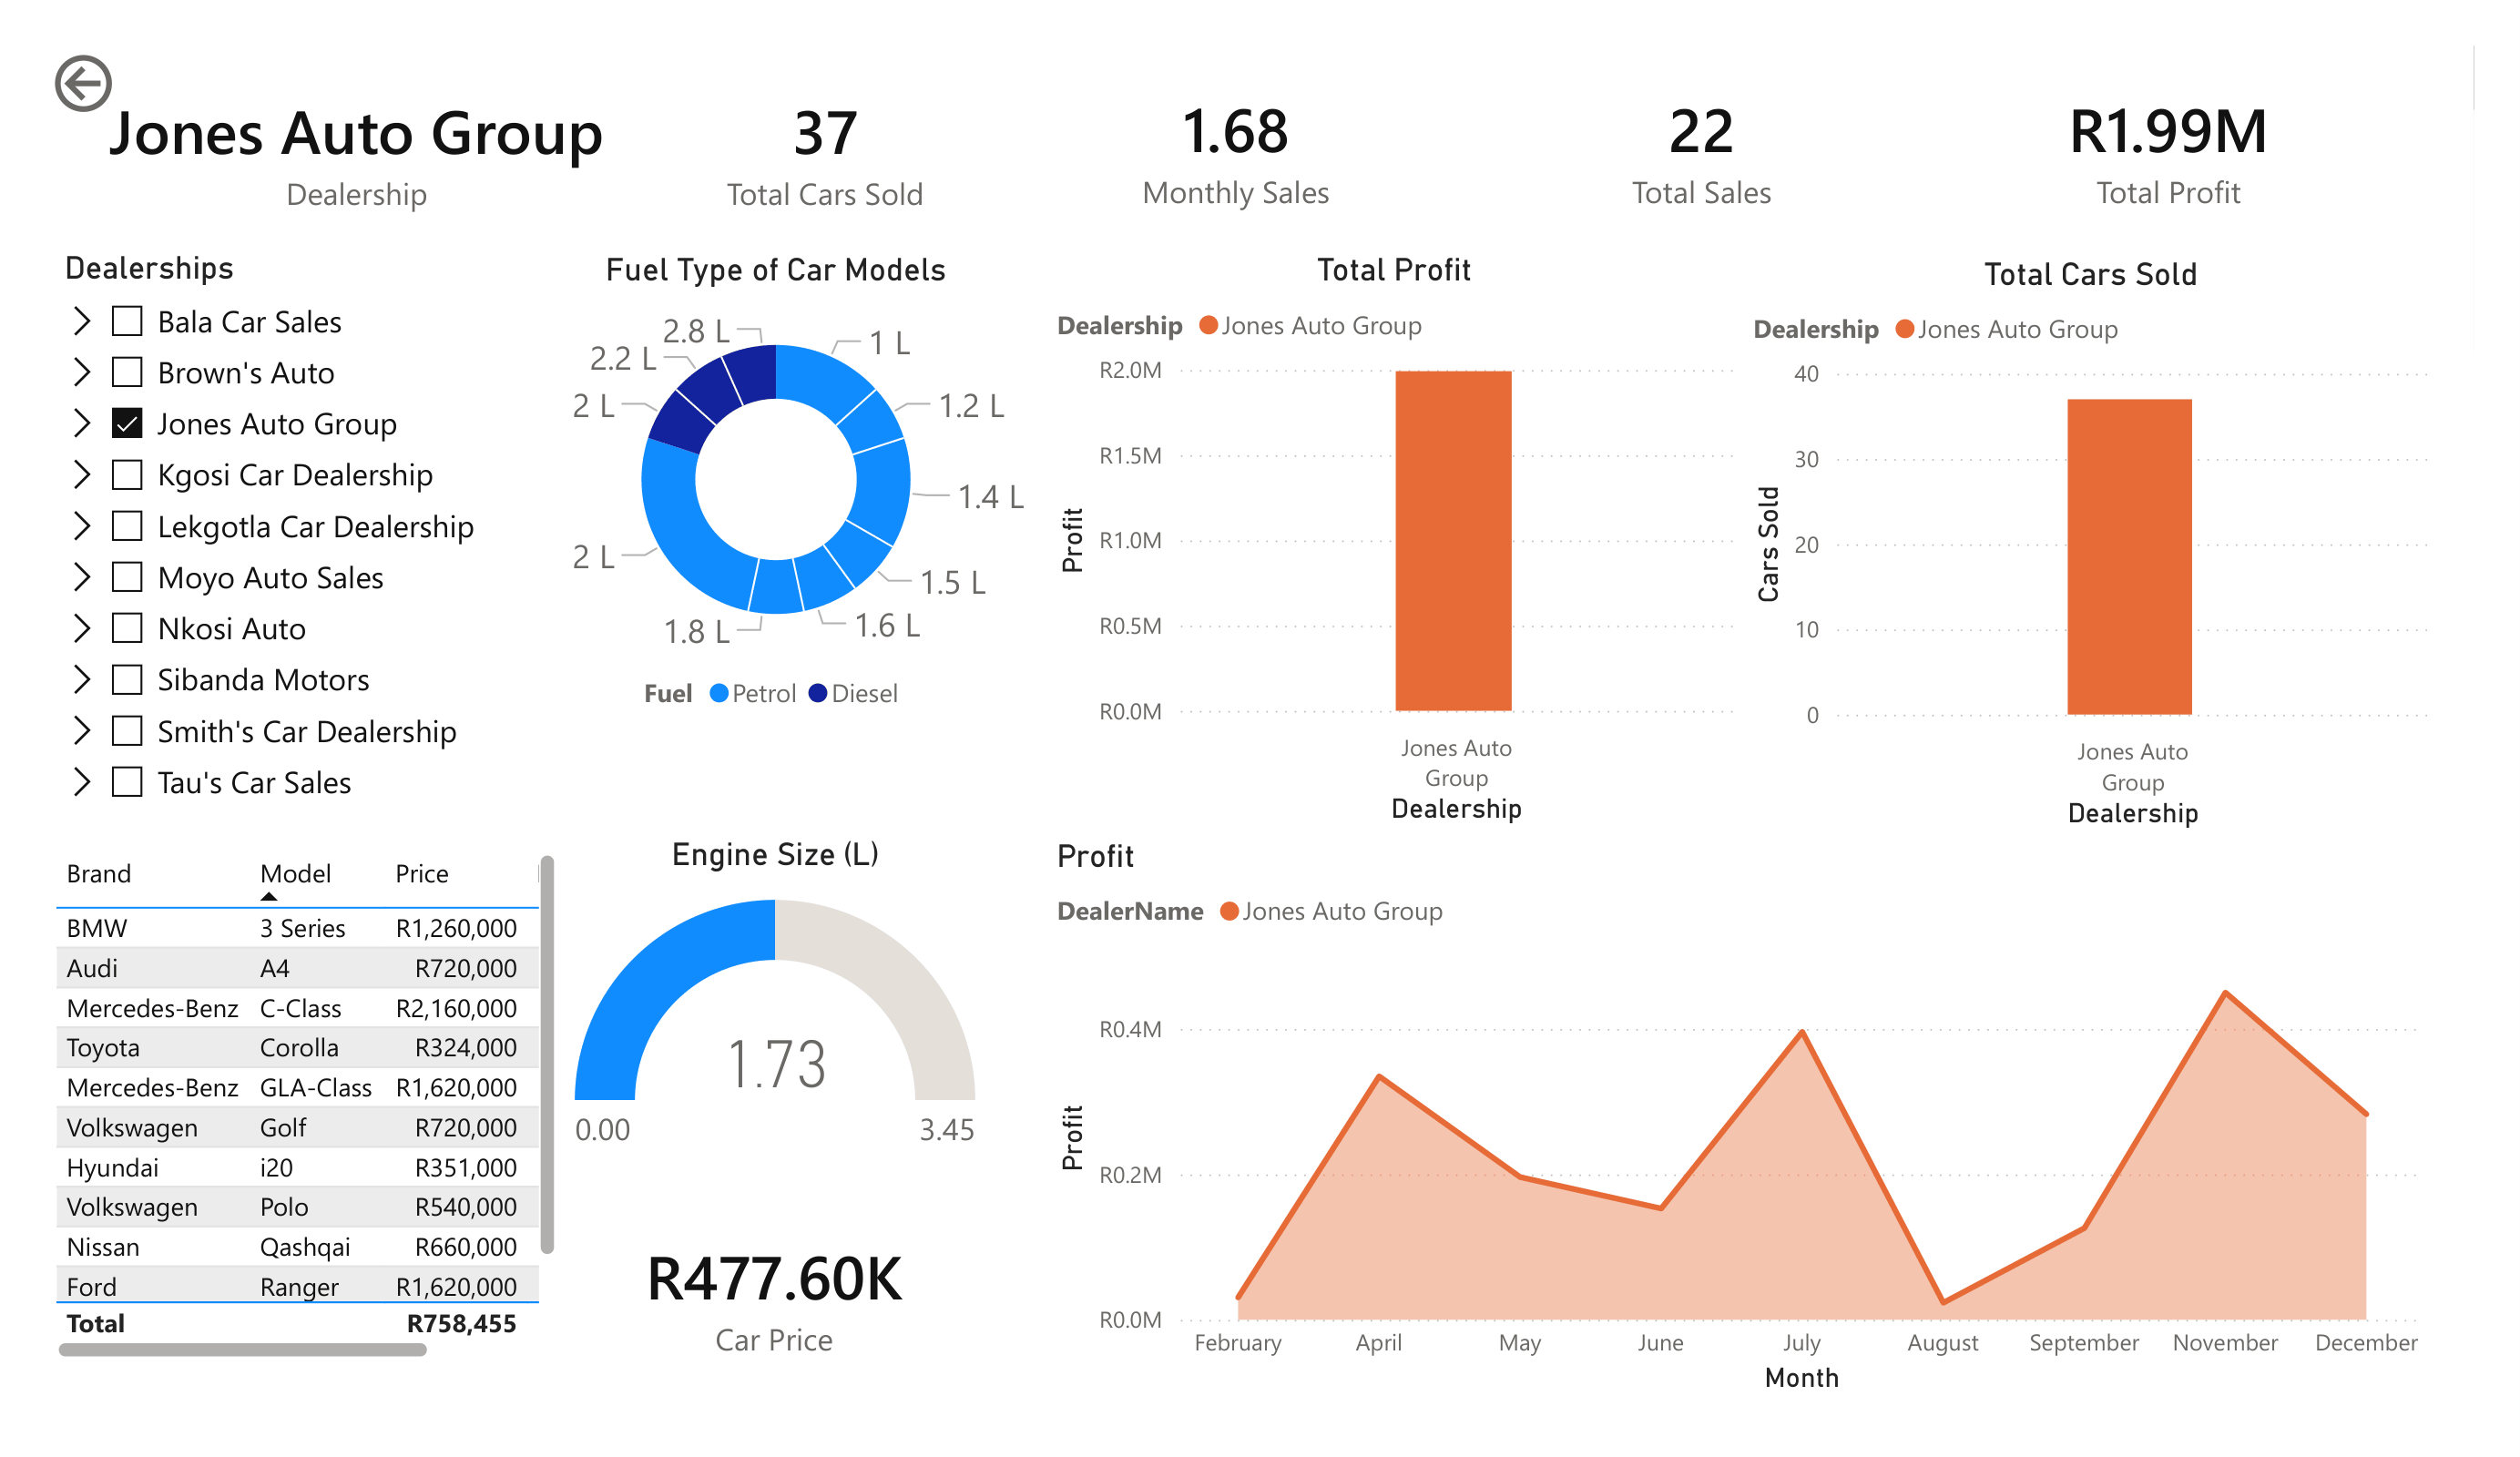

The dashboard page shown, as its layout file describes it:
{"tool":"powerbi","page":{"name":"Page 1","canvas":[1280,720],"ordinal":0},"visuals":[{"type":"cardVisual","fields":{"Data":["CountNonNull(Sales.Quantity)"]},"box":[801.4,0,144.1,109.8],"z":0},{"type":"cardVisual","fields":{"Data":["Sum(Sales.Quantity)"]},"box":[327.7,0,166.3,110.1],"z":1000},{"type":"cardVisual","fields":{"Data":["Sum(Sales.Total Profit (ZAR))"]},"box":[1012.7,0,212.7,109.8],"z":2000},{"type":"tableEx","fields":{"Values":["Models.Brand","Models.Model","Models.Price (ZAR)"]},"box":[9.6,362.3,262.1,355.4],"z":3000},{"type":"cardVisual","fields":{"Data":["Avg(Sales.Quantity)"]},"box":[548.9,0,157.8,109.8],"z":4000},{"type":"cardVisual","fields":{"Data":["Min(Dealers.DealerName)"]},"box":[23.2,0,265.4,110.1],"z":5000},{"type":"donutChart","title":"Fuel Type of Car Models","fields":{"Category":["Models.Fuel"],"Y":["CountNonNull(Models.Fuel)"],"Series":["Models.Engine Sizes (L)"]},"box":[242.1,107.6,286.1,251.9],"z":6000},{"type":"tableEx","fields":{"Values":["Dealers.DealerID","Dealers.DealerName"]},"box":[9.8,99,232.3,249.5],"z":7000},{"type":"gauge","fields":{"Y":["Avg(Models.EngineSize (L))"]},"box":[273.9,414.5,221.3,187.1],"z":8000},{"type":"columnChart","title":"Total Profit","fields":{"Category":["Dealers.DealerName","Sales.Date.Variation.Date Hierarchy.Month","Dealers.City","Models.Brand","Models.Model"],"Y":["Sum(Sales.Total Profit (ZAR))"],"Series":["Dealers.DealerName"]},"box":[528.3,107.6,365.6,306.9],"z":9000},{"type":"columnChart","title":"Total Cars Sold","fields":{"Category":["Dealers.DealerName","Dealers.City","Models.Segment","Models.Model"],"Y":["Sum(Sales.Quantity)"],"Series":["Dealers.DealerName"]},"box":[894.7,109.8,366.4,307.4],"z":10000},{"type":"actionButton","box":[0,0,100,40],"z":11000},{"type":"lineChart","title":"Monthly Profit (ZAR)","fields":{"Category":["Sales.Date.Variation.Date Hierarchy.Month","Dealers.Country","Dealers.City"],"Series":["Dealers.DealerName"],"Y":["Avg(Sales.Total Profit (ZAR))"]},"box":[528.3,417.2,731.4,303.3],"z":12000},{"type":"cardVisual","fields":{"Data":["Avg(Models.Price (ZAR))"]},"box":[271.5,584.5,216.4,135.7],"z":13000}]}

Visuals, with their boxes on the page's 1280x720 design canvas (x1, y1, x2, y2). These are canvas units, not pixel positions in the 2520x1457 screenshot, which may show the page scaled, cropped or inside an application window:
cardVisual - CountNonNull(Sales.Quantity): (801,0,946,110)
cardVisual - Sum(Sales.Quantity): (328,0,494,110)
cardVisual - Sum(Sales.Total Profit (ZAR)): (1013,0,1225,110)
tableEx - Models.Brand x Models.Model: (10,362,272,718)
cardVisual - Avg(Sales.Quantity): (549,0,707,110)
cardVisual - Min(Dealers.DealerName): (23,0,289,110)
"Fuel Type of Car Models" donutChart: (242,108,528,360)
tableEx - Dealers.DealerID x Dealers.DealerName: (10,99,242,348)
gauge - Avg(Models.EngineSize (L)): (274,414,495,602)
"Total Profit" columnChart: (528,108,894,414)
"Total Cars Sold" columnChart: (895,110,1261,417)
actionButton: (0,0,100,40)
"Monthly Profit (ZAR)" lineChart: (528,417,1260,720)
cardVisual - Avg(Models.Price (ZAR)): (272,584,488,720)
